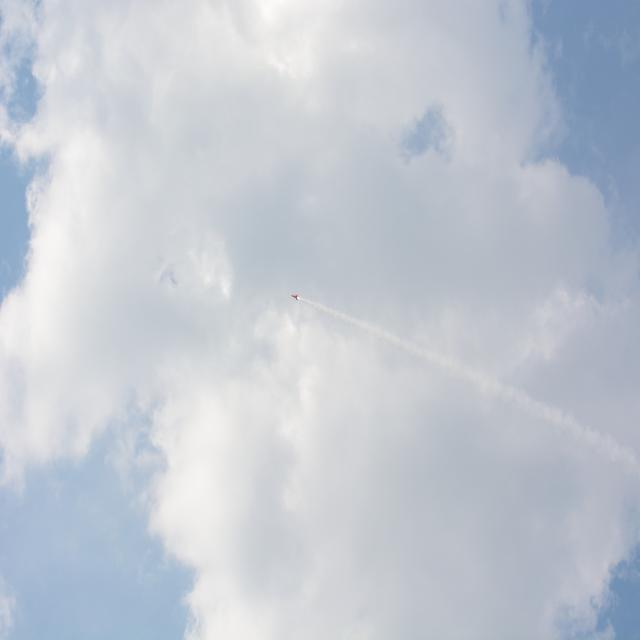Rocket: (290, 293, 299, 301)
